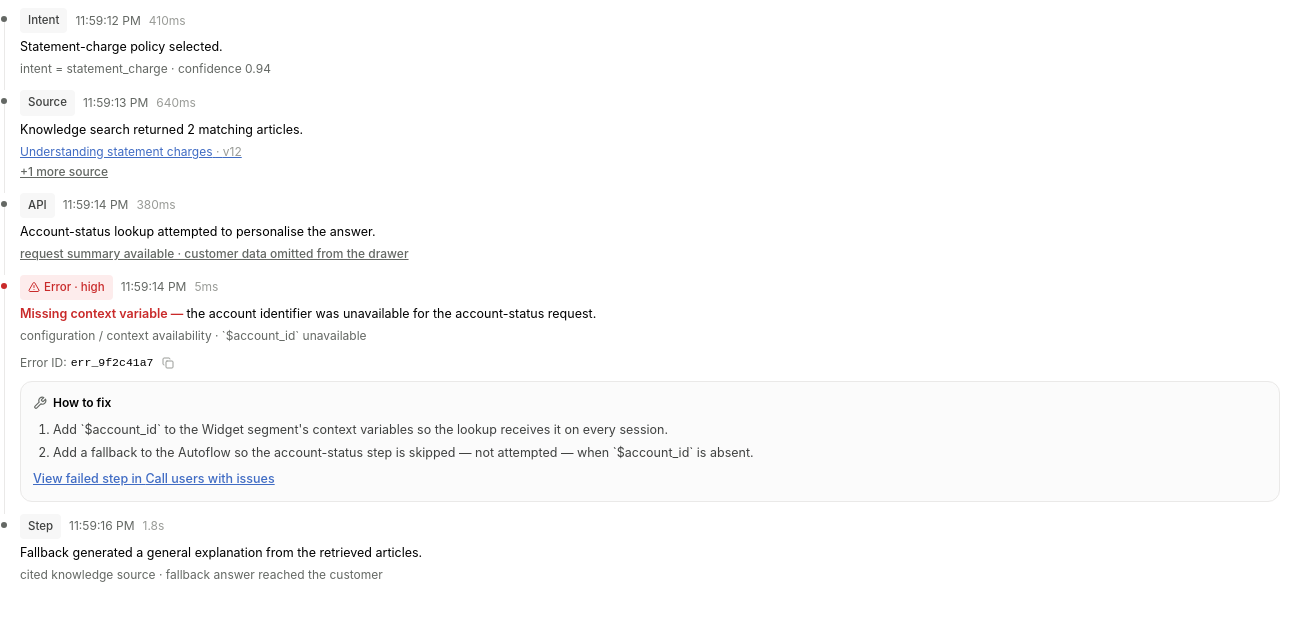
Test case: EvidenceTimeline › cites knowledge sources as title + version links, expanding to the full list
Expected: the link "Understanding statement charges · v12" is shown, x1=20 y1=142 x2=242 y2=160
Expected: the link "Pending authorisations" is not shown
Click the button "+1 more source" at (64, 172), box x1=20 y1=162 x2=108 y2=180
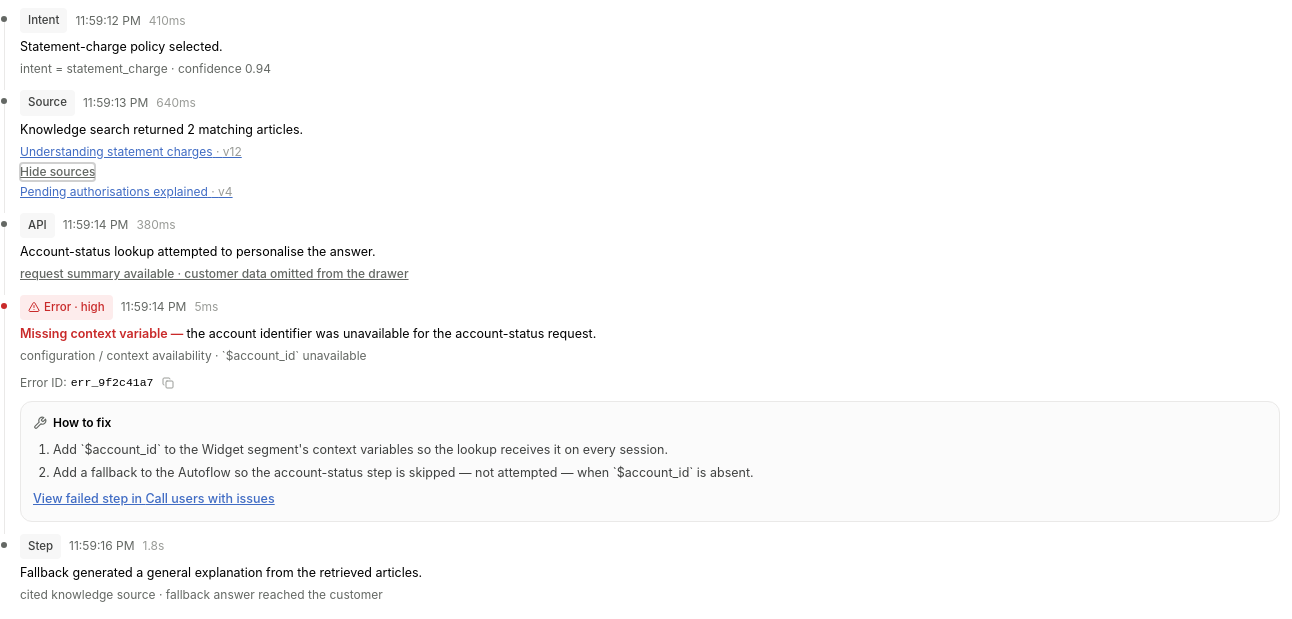
Now the link "Pending authorisations explained · v4" is shown, box x1=20 y1=182 x2=233 y2=200
